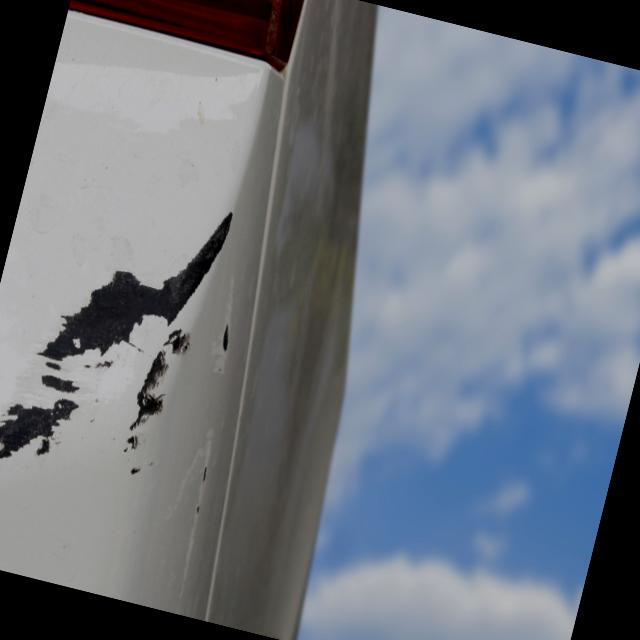Rayure: (0, 154, 243, 524), (165, 264, 264, 534)
